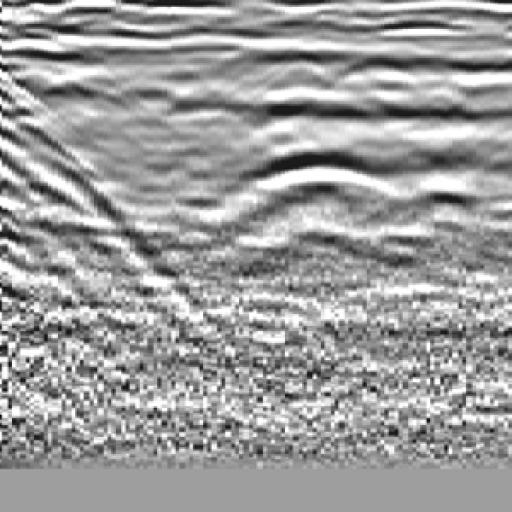metalic: (241, 35, 421, 270)
nonmetalic: (1, 39, 128, 270)
